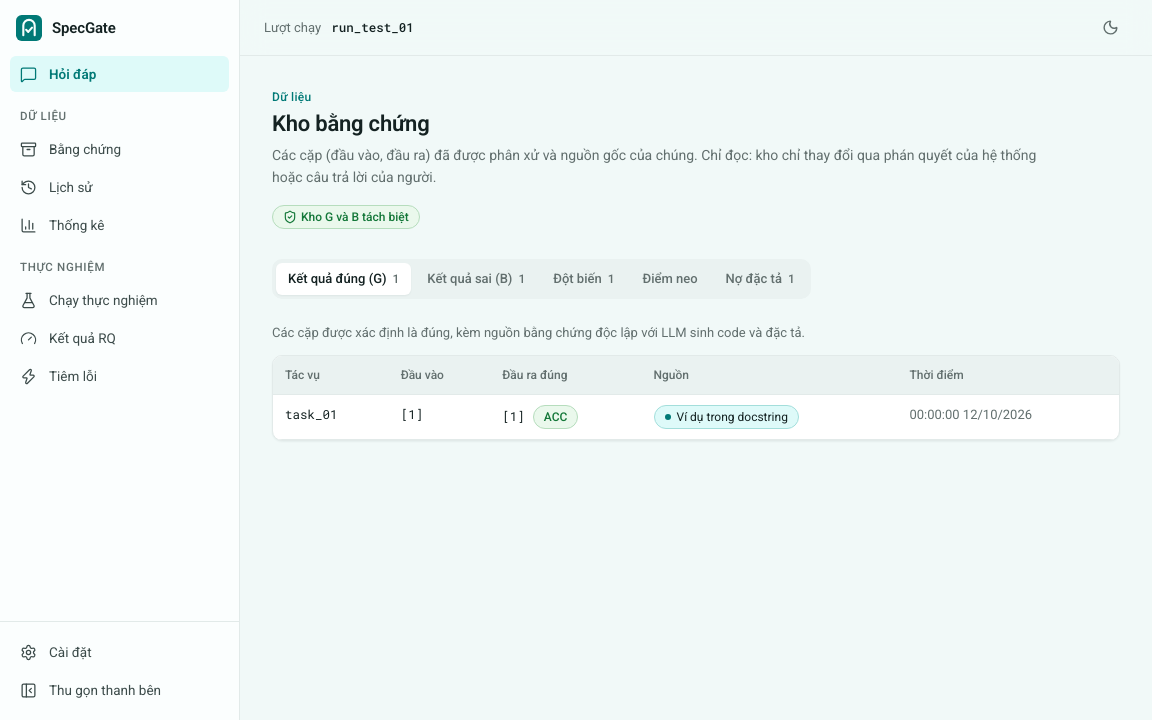
Evidence Store Read-Only & Invariant Verification UI › renders Metamorphic Relations ProvenanceTree in Anchor & Bao đóng tab
This screenshot has width=1152, height=720.
Check: the tab with test id "evidence-tab-G" is shown, box x1=276 y1=263 x2=411 y2=295
Step 1. Click the tab with test id "evidence-tab-anchor_closure" → (670, 279), box x1=630 y1=263 x2=710 y2=295
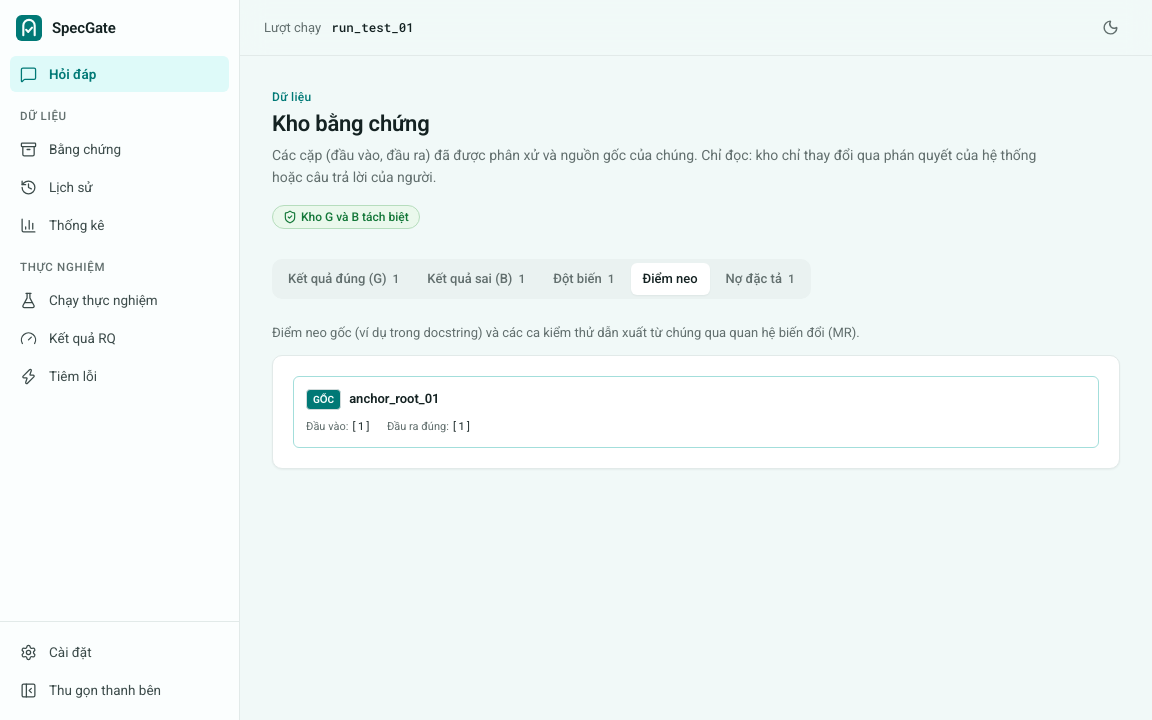
Check: the element with test id "provenance-tree" is shown, box x1=272 y1=354 x2=1120 y2=469
Check: the element with test id "provenance-node-anchor_root_01" is shown, box x1=293 y1=376 x2=1099 y2=448
